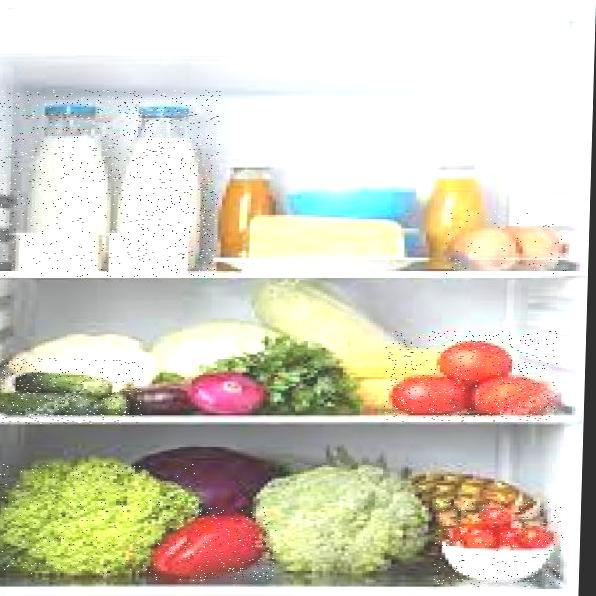broccoli: (0, 464, 199, 574)
courgettes: (0, 357, 143, 424)
eggs: (445, 204, 571, 274)
milk: (0, 90, 123, 277), (119, 90, 221, 277)
peppers: (142, 508, 277, 582)
tomatoes: (382, 331, 558, 422), (433, 501, 564, 587)
